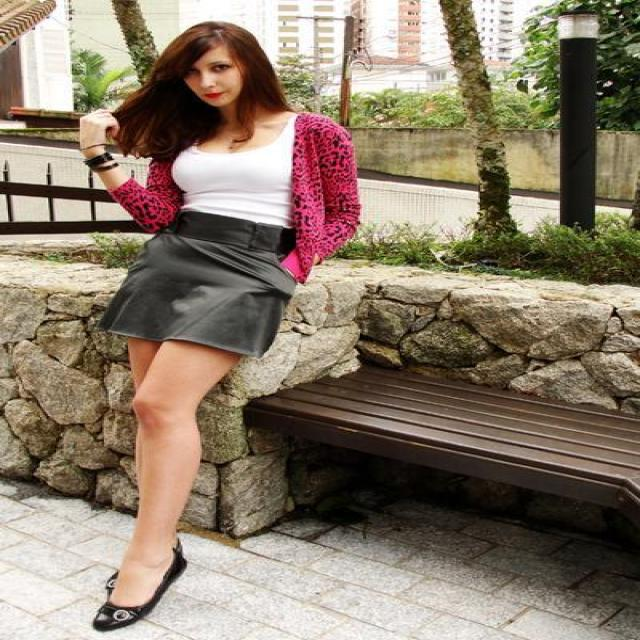jacket: (99, 110, 360, 284)
shirt: (171, 115, 301, 226)
shoe: (170, 540, 186, 575)
skirt: (96, 229, 288, 370)
